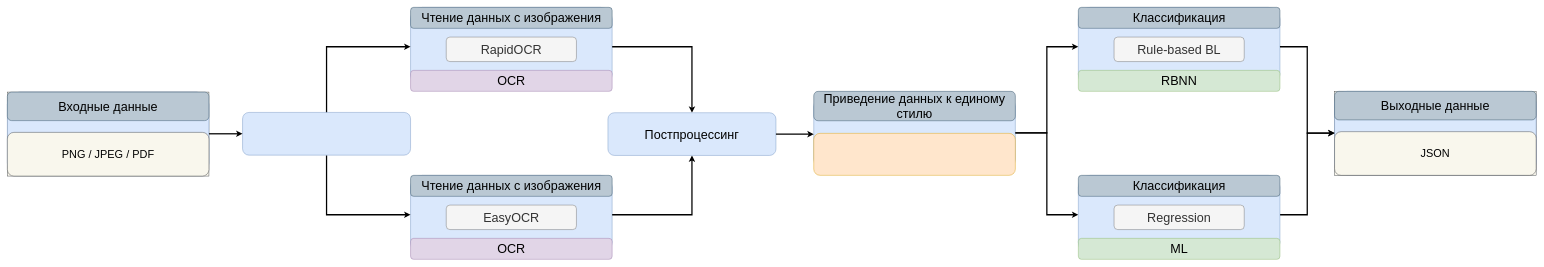
Image size: 1544x267. Some labels were removed from this diagram. The centre of each missing label's shape, as x and y in pixels:
"Препроцессинг" belongs at point 326,133.
"Структуризация" belongs at point 914,154.
